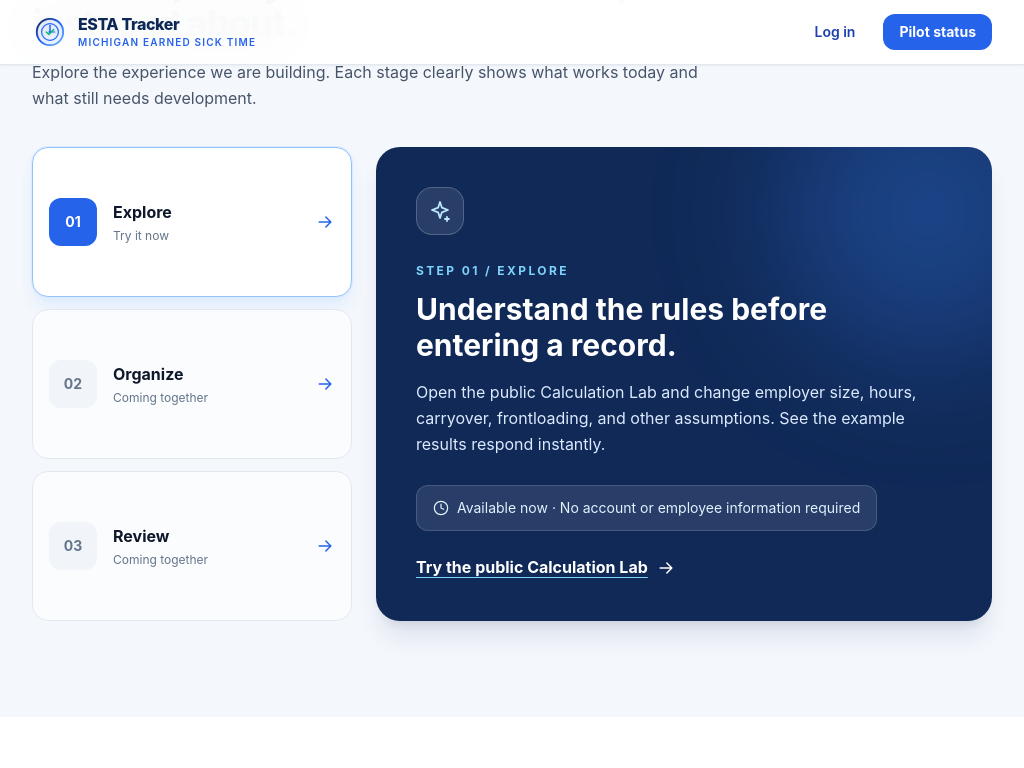
Test: Landing Page › switches the workflow detail panel
(page scrolled)
Click the button "02 Organize Coming together" at [73, 384], box [32, 309, 352, 459]
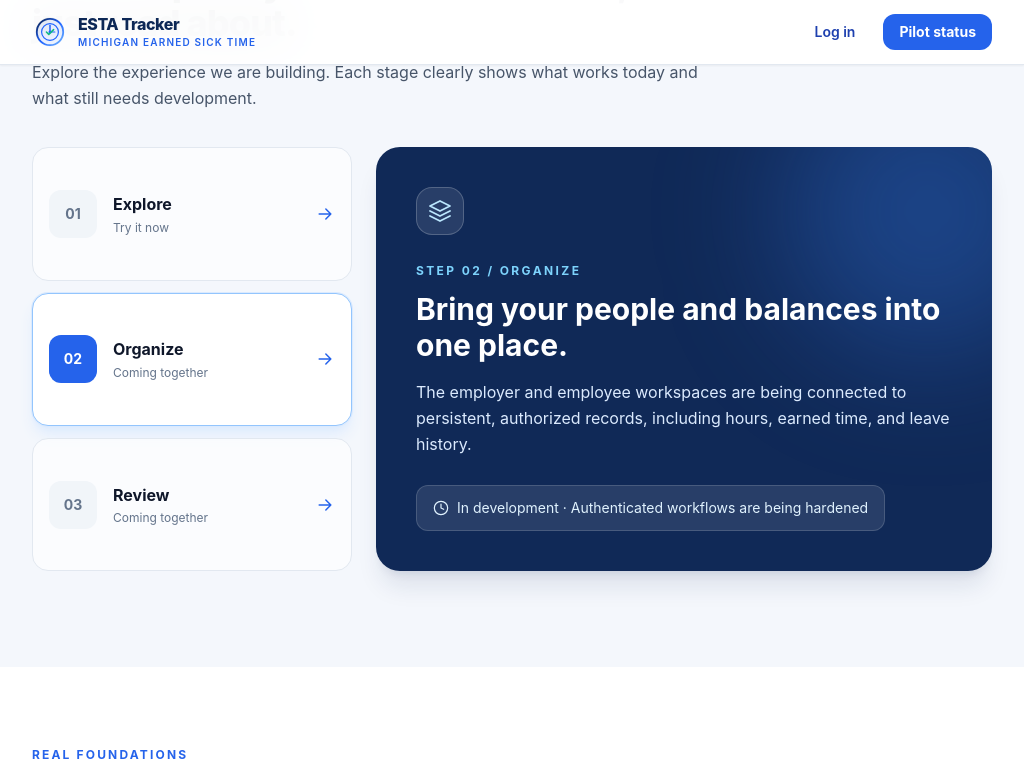
Result: the heading "Bring your people and balances into one place." is shown at [416, 291, 952, 363]
Result: the text "In development · Authenticated workflows are being hardened" is shown at [416, 485, 885, 531]
